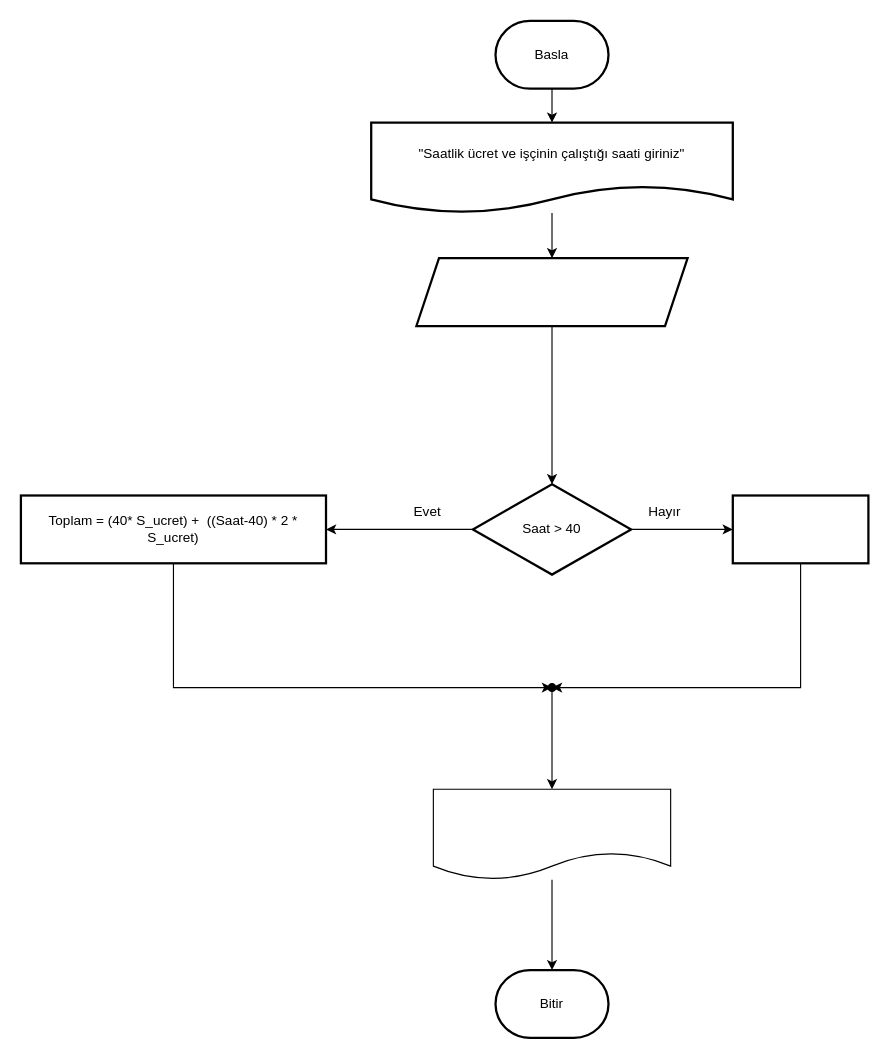
Some shapes in this 888 by 1058 pixel diagram are drawn without their labels. Each missing label, with the box of its shape:
"Toplam ücret = ", Toplam: (432, 788, 671, 880)
Saat, S_ucret: (415, 257, 688, 327)
Toplam = (40* S_ucret): (731, 494, 869, 564)
